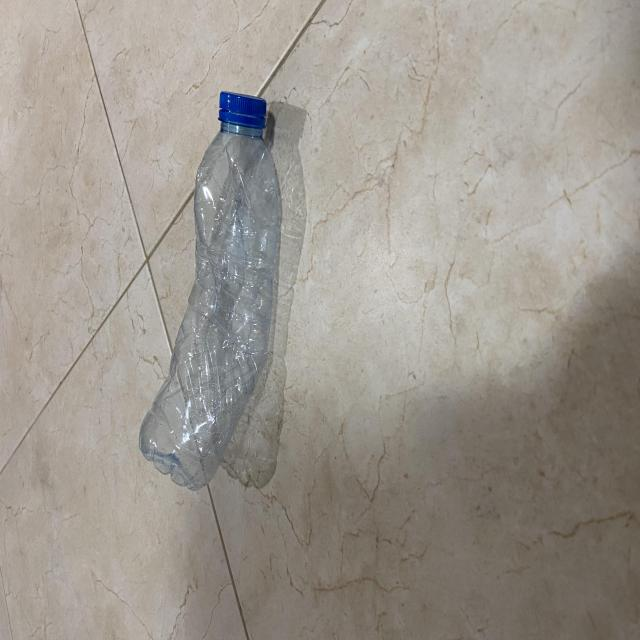plastic: (128, 86, 284, 493)
